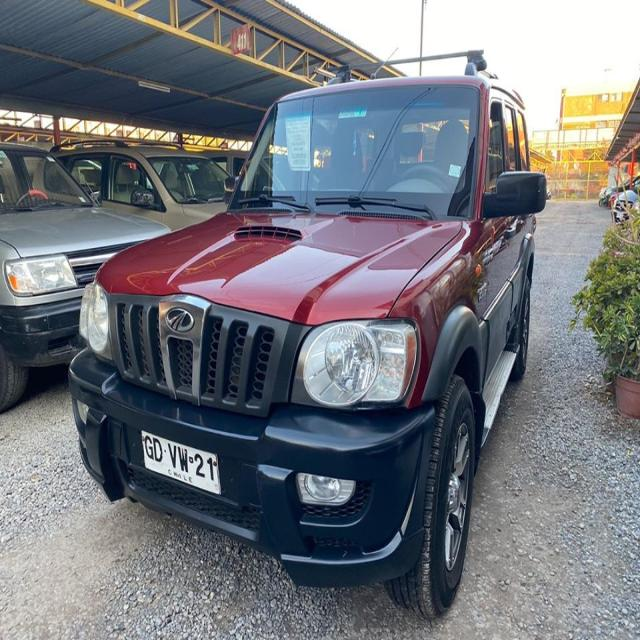patente: (140, 428, 222, 496)
